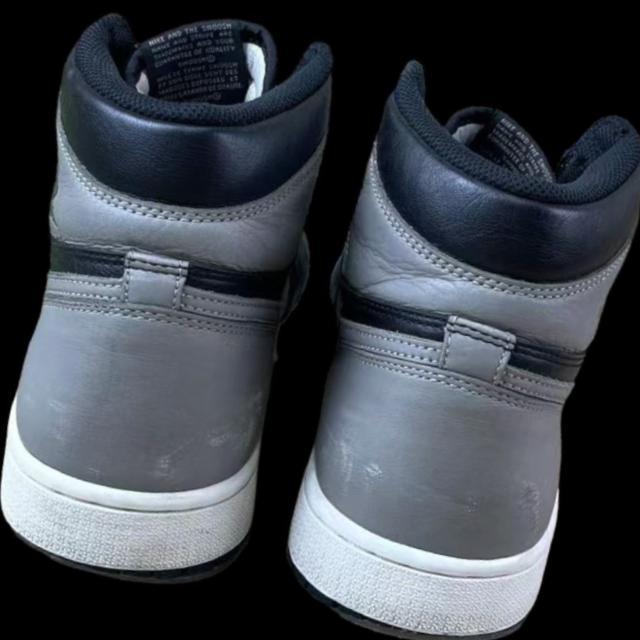nike original jordan 1: (0, 0, 364, 603), (270, 50, 640, 640)
